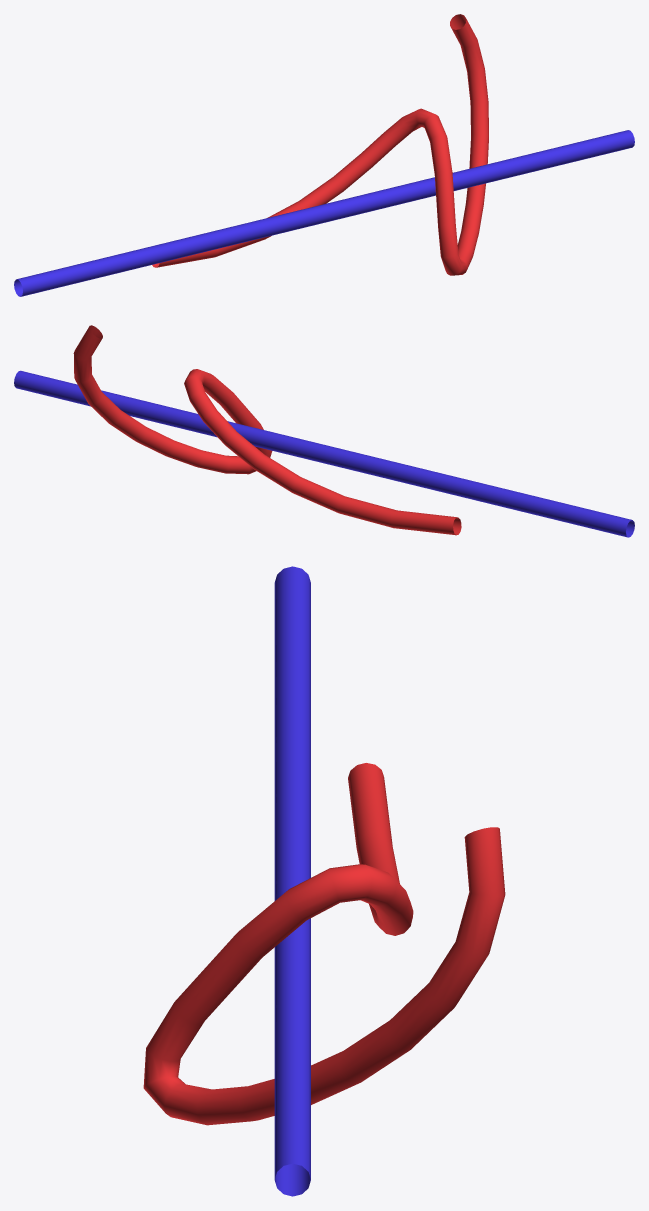
The model's file is SquareKnotState3.dae.
The picture shows the model from 3 angles, top to bottom: view 1: azimuth 30°, elevation 25°; view 2: azimuth 150°, elevation 25°; view 3: azimuth 270°, elevation 25°; orthographic projection. The views are drawn at different scales.
Visible parts, largest first — view 1: BezierCurve.002, BezierCurve.003; view 2: BezierCurve.003, BezierCurve.002; view 3: BezierCurve.003, BezierCurve.002.
Part boxes in pixels (x1,y1,x2,y2): BezierCurve.002: (14,130,634,296); BezierCurve.003: (152,14,488,275); BezierCurve.003: (73,325,461,535); BezierCurve.002: (14,370,634,537); BezierCurve.003: (143,763,505,1125); BezierCurve.002: (274,566,310,1196).
Size of the model in its own units: 0.7777 by 0.1991 by 0.2234.
